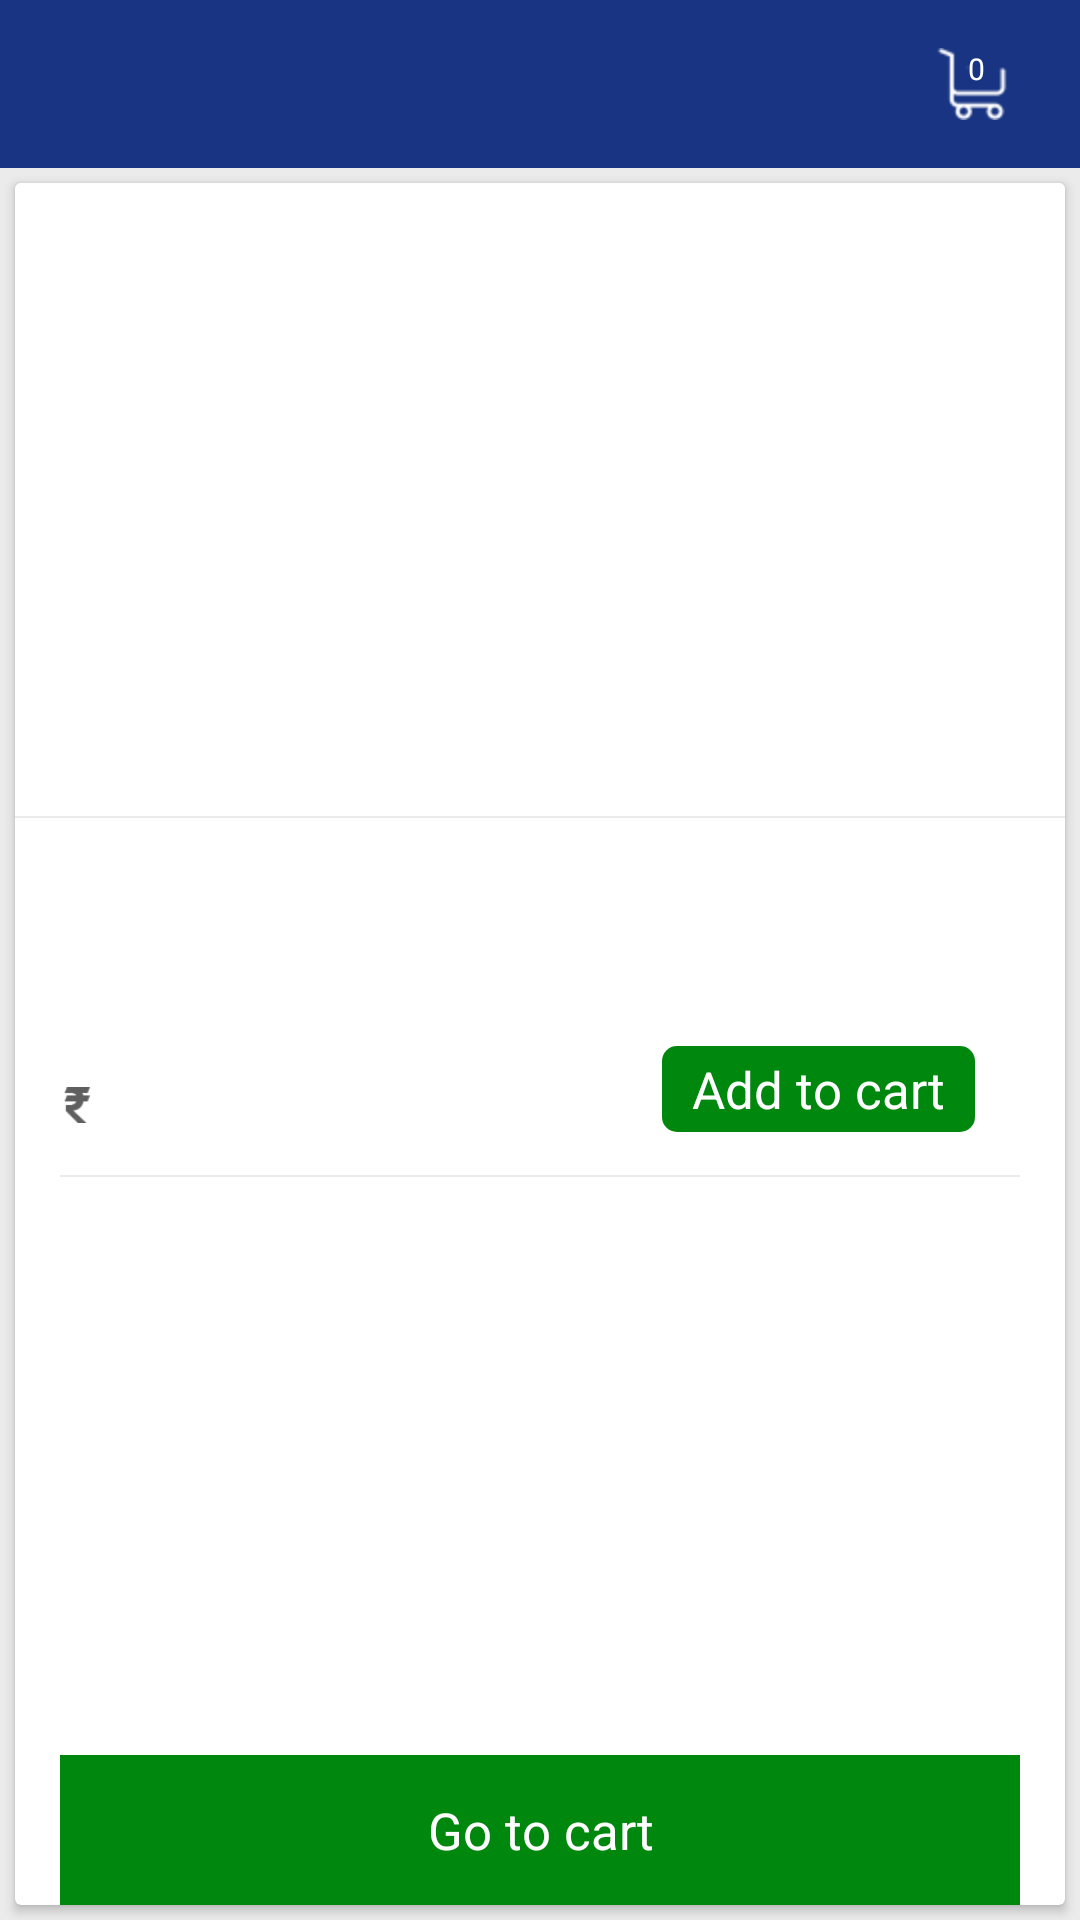

Where icons sit on this 1080w x 1920h app screen, as [x1=x1, y1=y1, x2=x2, y2=y2]:
cart: [x1=938, y1=48, x2=1007, y2=120]
rupee: [x1=64, y1=1087, x2=90, y2=1123]
